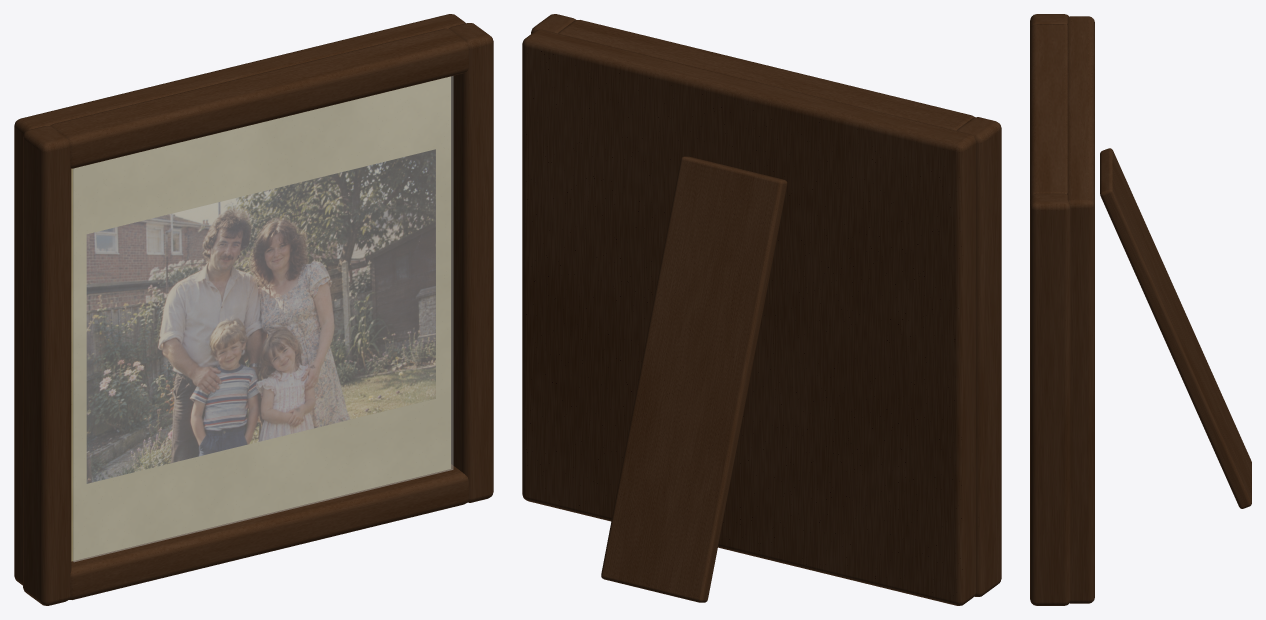
The model's file is family_photo.glb.
3 renders of one model, left to right at view 1: azimuth 30°, elevation 25°; view 2: azimuth 150°, elevation 25°; view 3: azimuth 270°, elevation 25°, orthographic. The views are drawn at different scales.
Visible parts, largest first — view 1: Thin protective glazing, Fictional 1980s family photograph, Photograph mount, Frame side, Frame cross rail.001, Frame side.001, Frame cross rail, Photo frame back; view 2: Photo frame back, Folding easel, Frame side, Frame cross rail.001; view 3: Frame side.001, Photo frame back, Folding easel, Frame cross rail.001, Frame side.
Boxes of the visible parts, x1,y1,x2,y2 form: Thin protective glazing: (73,76,453,561); Fictional 1980s family photograph: (86,149,435,483); Photograph mount: (71,76,450,561); Frame side: (23,126,71,605); Frame cross rail.001: (50,28,468,168); Frame side.001: (448,23,493,502); Frame cross rail: (69,464,468,599); Photo frame back: (14,14,465,585); Photo frame back: (522,29,975,605); Folding easel: (601,156,787,602); Frame side: (956,117,1001,596); Frame cross rail.001: (558,20,974,130); Frame side.001: (1030,193,1070,605); Photo frame back: (1067,16,1094,603); Folding easel: (1100,148,1251,508); Frame cross rail.001: (1030,24,1067,199); Frame side: (1030,14,1068,29).
Bounding box in the file's own units: 0.266 × 0.26 × 0.1295.
Materials: 4 (3 with a texture image).
